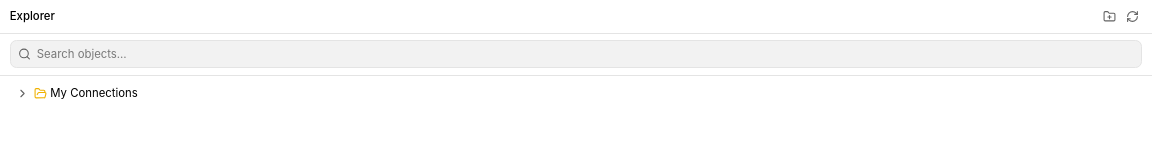
Test: DatabaseExplorer › a connected session auto-expands to show its databases
The width and height of the screenshot is (1152, 164).
Click the 3rd button.
click(23, 93)  # box [14,85,31,102]
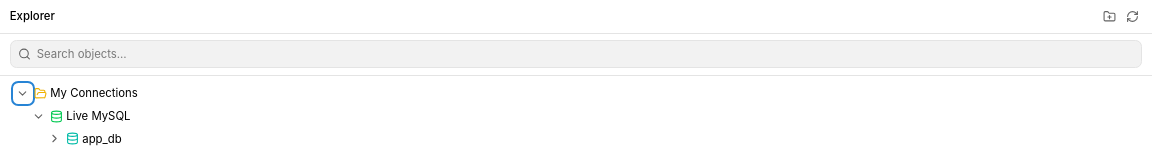
Expected: the text "Live MySQL" is shown, [66,108,131,124]
Expected: the text "app_db" is shown, [82,131,122,147]
